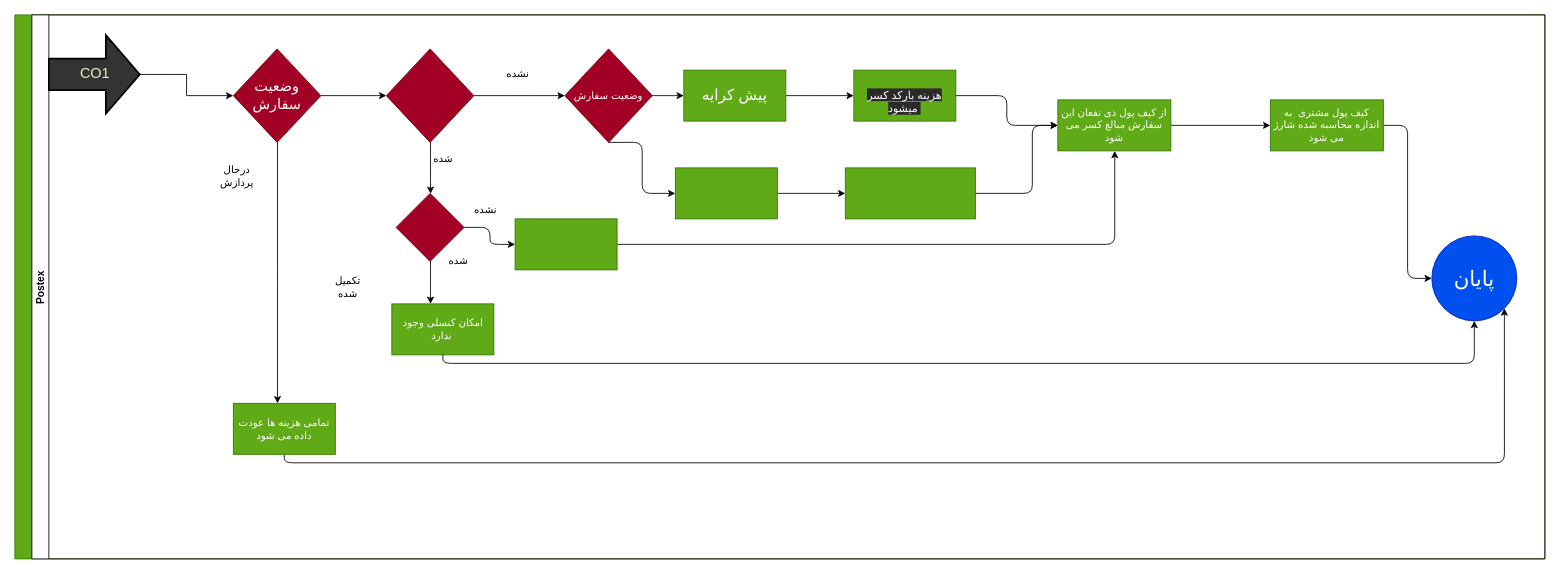
Image size: 1560x574. Some labels were removed from this diagram. The box of each missing label's shape, as (x1, y1, x2, y2) in pixels:
تحویل به وندور: (395, 193, 464, 261)
هزینه بارکد از کیف پول کسر میشود: (844, 167, 975, 219)
هزینه بارکد و پست و جمع آوری کسر می شود: (514, 218, 617, 270)
وضعیت جمع آروی: (385, 48, 474, 142)
پس کرایه: (674, 167, 777, 219)
